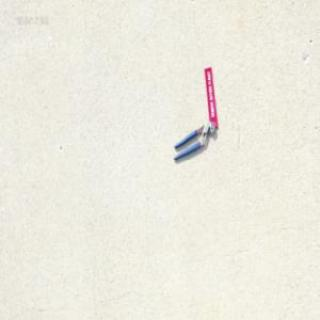LuggageTagtrack_idkeyframe: (204, 64, 218, 127)
Pliertrack_idkeyframe: (172, 118, 215, 161)
